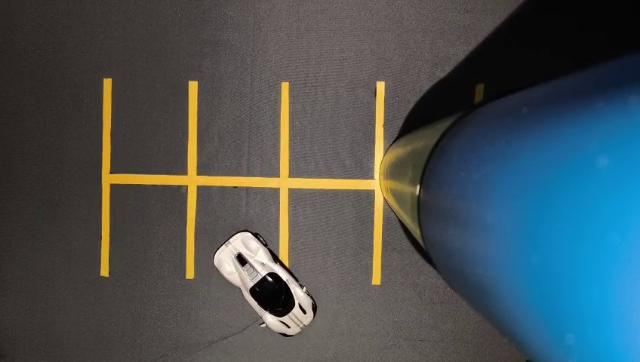toy_car: (201, 199, 349, 349)
